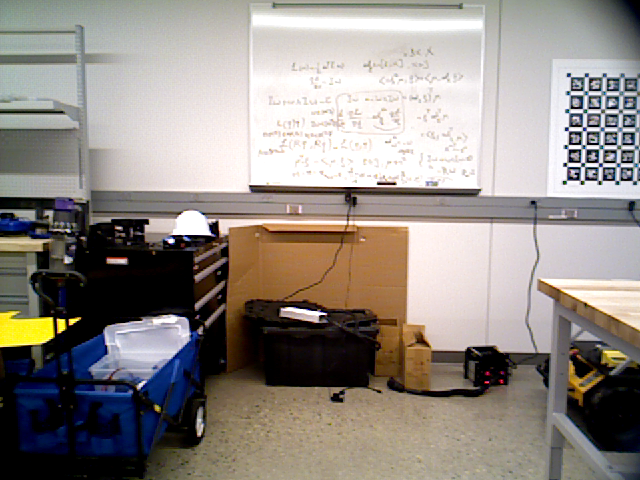painting4: (551, 59, 640, 196)
